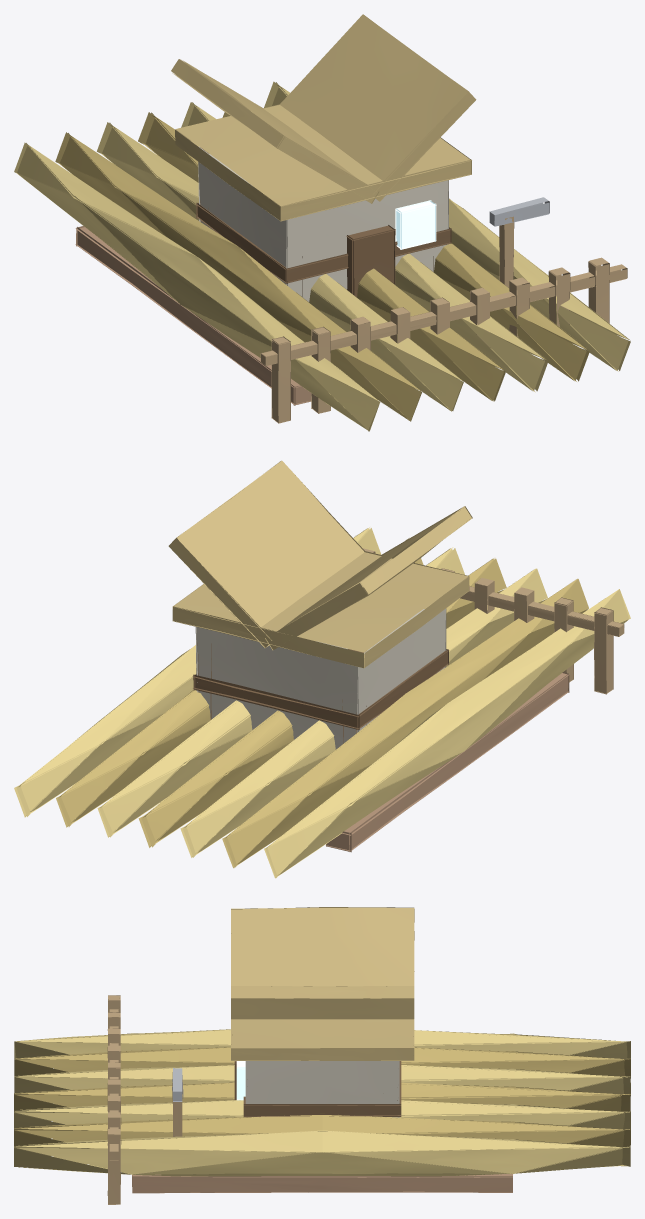
The model's file is farm.glb.
3 views of the same model, one above another, from view 1: azimuth 30°, elevation 25°; view 2: azimuth 150°, elevation 25°; view 3: azimuth 270°, elevation 25° (orthographic). The views are drawn at different scales.
Parts seen in each view (by area): view 1: Furrow0; view 2: Furrow0; view 3: Furrow0.
Boxes of the visible parts, left/top/right/bottom form: Furrow0: left=14, top=14, right=630, bottom=431; Furrow0: left=14, top=460, right=630, bottom=878; Furrow0: left=14, top=907, right=630, bottom=1204.
Size of the model in its own units: 2 by 1.25 by 3.4.
